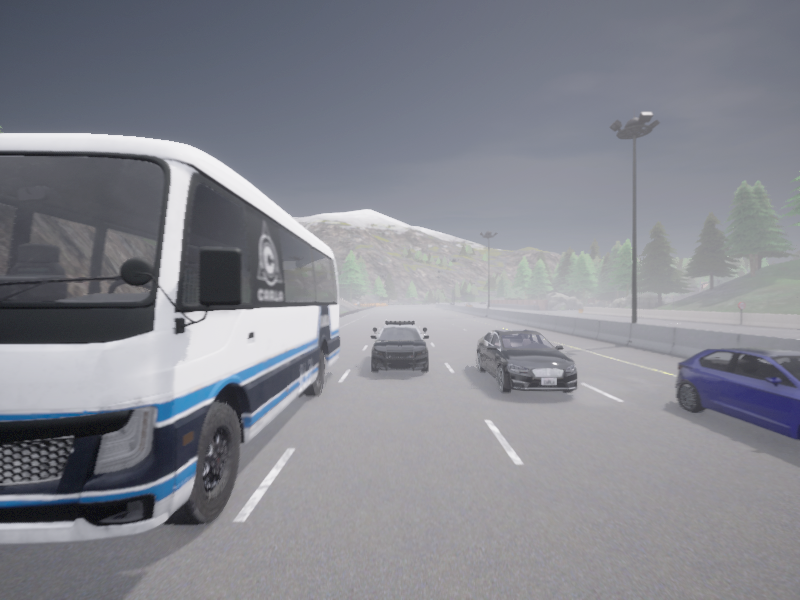vehicle: (0, 133, 340, 544), (676, 347, 799, 439), (476, 329, 576, 392), (371, 321, 428, 372), (464, 303, 471, 306), (481, 301, 486, 304), (448, 302, 452, 304)
